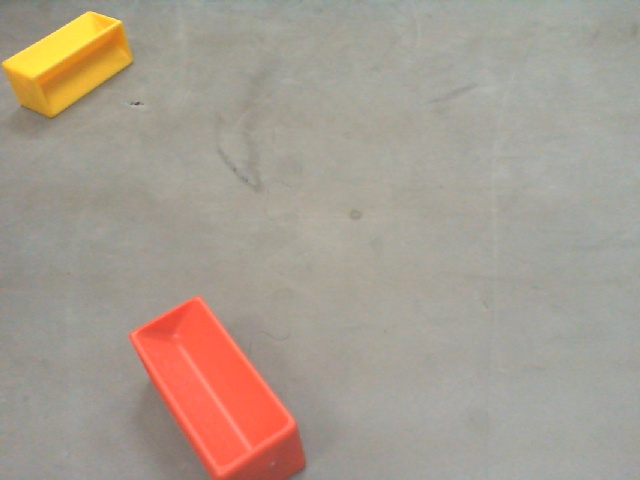RedSample: (128, 295, 308, 480)
YellowSample: (1, 7, 136, 121)
